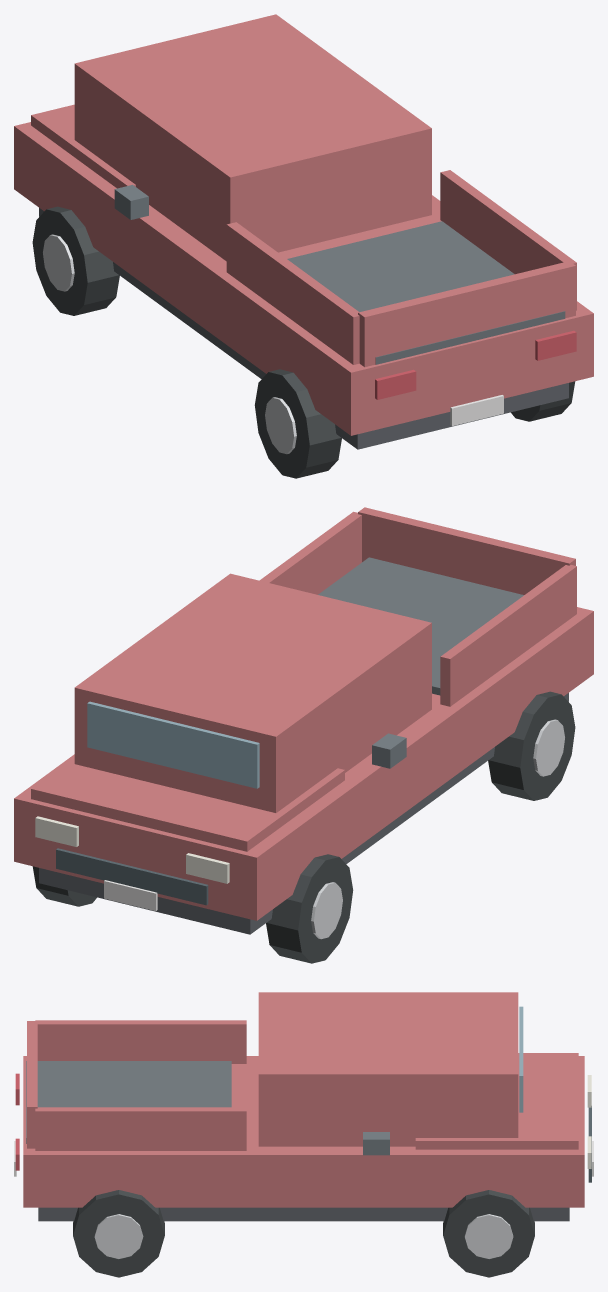
The model's file is strada.glb.
3 views of the same model, one above another, from view 1: azimuth 30°, elevation 25°; view 2: azimuth 150°, elevation 25°; view 3: azimuth 270°, elevation 25° (orthographic). The views are drawn at different scales.
Parts seen in each view (by area): view 1: cab_0018, body_0001, bed_floor_0020, tailgate_0023, bed_side_0021, bed_side_0022, wheel_tire_0006, wheel_tire_0004, chassis_0000, hood_0002, wheel_rim_0007, wheel_rim_0005 (+5 smaller); view 2: cab_0018, body_0001, hood_0002, tailgate_0023, bed_floor_0020, windshield_0019, bed_side_0021, wheel_tire_0004, wheel_tire_0006, chassis_0000, bed_side_0022, front_grille_0003 (+7 smaller); view 3: cab_0018, body_0001, bed_side_0022, bed_floor_0020, bed_side_0021, hood_0002, chassis_0000, wheel_tire_0011, wheel_tire_0013, wheel_rim_0012, wheel_rim_0014, tailgate_0023 (+2 smaller).
Boxes of the visible parts, box(x1,y1,x2,y2) form: cab_0018: box(74, 14, 431, 261); body_0001: box(14, 122, 593, 435); bed_floor_0020: box(287, 221, 565, 364); tailgate_0023: box(358, 261, 575, 367); bed_side_0021: box(226, 222, 359, 364); bed_side_0022: box(440, 170, 576, 310); wheel_tire_0006: box(254, 369, 341, 478); wheel_tire_0004: box(32, 206, 119, 315); chassis_0000: box(39, 208, 568, 449); hood_0002: box(31, 104, 135, 188); wheel_rim_0007: box(265, 397, 296, 454); wheel_rim_0005: box(43, 234, 74, 291); cab_0018: box(74, 573, 431, 812); body_0001: box(14, 607, 593, 920); hood_0002: box(31, 757, 344, 851); tailgate_0023: box(358, 507, 575, 594); bed_floor_0020: box(318, 557, 523, 695); windshield_0019: box(87, 701, 259, 788); bed_side_0021: box(440, 565, 576, 706); wheel_tire_0004: box(266, 854, 353, 963); wheel_tire_0006: box(488, 691, 575, 800); chassis_0000: box(39, 693, 568, 934); bed_side_0022: box(259, 511, 361, 594); front_grille_0003: box(56, 848, 208, 905); cab_0018: box(258, 992, 518, 1146); body_0001: box(23, 1056, 584, 1207); bed_side_0022: box(35, 1107, 246, 1150); bed_floor_0020: box(26, 1061, 231, 1143); bed_side_0021: box(35, 1020, 246, 1063); hood_0002: box(415, 1053, 578, 1149); chassis_0000: box(38, 1207, 569, 1221); wheel_tire_0011: box(443, 1190, 534, 1277); wheel_tire_0013: box(73, 1190, 164, 1277); wheel_rim_0012: box(464, 1214, 513, 1258); wheel_rim_0014: box(94, 1214, 143, 1258); tailgate_0023: box(27, 1021, 37, 1148).
Bounding box in the file's own units: 1.96 × 1.55 × 4.29.
